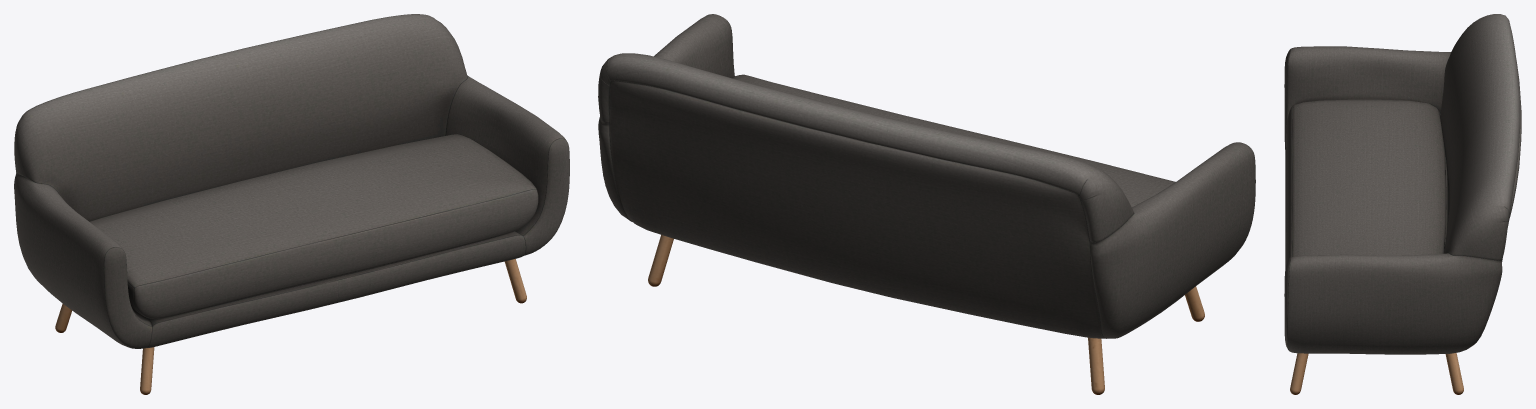
File: Stone Sofa.glb
3 renders of one model, left to right at view 1: azimuth 30°, elevation 25°; view 2: azimuth 150°, elevation 25°; view 3: azimuth 270°, elevation 25°, orthographic. The views are drawn at different scales.
Parts seen in each view (by area): view 1: FABRIC001, OAK001; view 2: FABRIC001, OAK001; view 3: FABRIC001, OAK001.
Part boxes in pixels (<box>): FABRIC001: <box>14,14,569,348</box>; OAK001: <box>55,259,526,394</box>; FABRIC001: <box>598,14,1255,338</box>; OAK001: <box>648,235,1204,394</box>; FABRIC001: <box>1284,14,1521,354</box>; OAK001: <box>1290,353,1463,394</box>.
Size of the model in its own units: 192 by 83.33 by 87.54.
Materials: 2 (2 with a texture image).
